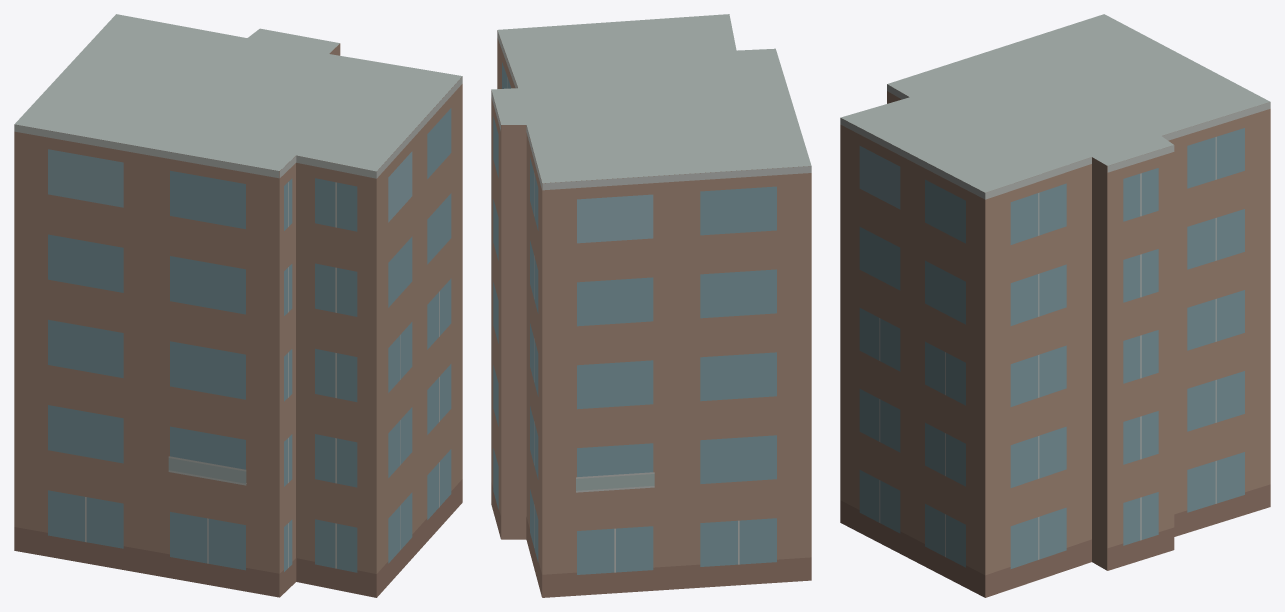
File: survey-upis-32764585.glb
3 views of the same model, side by side, from view 1: azimuth 30°, elevation 25°; view 2: azimuth 150°, elevation 25°; view 3: azimuth 270°, elevation 25° (orthographic). The views are drawn at different scales.
Visible parts, largest first — view 1: survey-upis-32764585.tmp; view 2: survey-upis-32764585.tmp; view 3: survey-upis-32764585.tmp.
Part boxes in pixels (x1,y1,x2,y2): survey-upis-32764585.tmp: [14, 14, 462, 597]; survey-upis-32764585.tmp: [491, 14, 811, 597]; survey-upis-32764585.tmp: [840, 14, 1270, 597].
Bounding box in the file's own units: 13.61 × 14.37 × 13.84.
